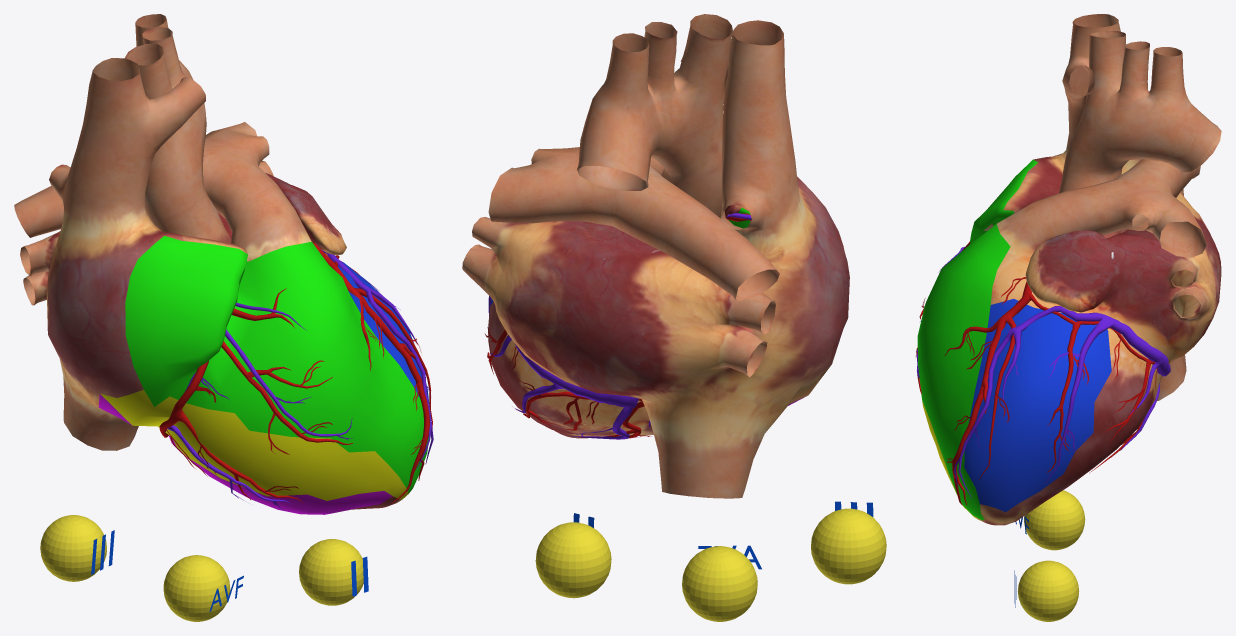
Rendered from new-human-heart-with-camera.glb.
3 renders of one model, left to right at view 1: azimuth 30°, elevation 25°; view 2: azimuth 150°, elevation 25°; view 3: azimuth 270°, elevation 25°, orthographic. The views are drawn at different scales.
Parts seen in each view (by area): view 1: Object_2, Object_4, Sphere.001, Object_6, Sphere.002, Sphere, Object_3; view 2: Object_2, Sphere, Sphere.002, Sphere.001, Object_6, Object_4, Object_3; view 3: Object_2, Object_4, Object_6, Sphere.002, Sphere.001, Object_3, Object_5.
Part boxes in pixels (left/top/right/bottom): Object_2: left=14, top=14, right=429, bottom=514; Object_4: left=159, top=243, right=432, bottom=503; Sphere.001: left=163, top=555, right=230, bottom=621; Object_6: left=167, top=249, right=433, bottom=510; Sphere.002: left=299, top=539, right=363, bottom=605; Sphere: left=40, top=515, right=106, bottom=581; Object_3: left=166, top=259, right=425, bottom=491; Object_2: left=462, top=14, right=849, bottom=498; Sphere: left=811, top=508, right=886, bottom=584; Sphere.002: left=535, top=522, right=611, bottom=598; Sphere.001: left=682, top=546, right=757, bottom=621; Object_6: left=488, top=213, right=751, bottom=439; Object_4: left=487, top=213, right=751, bottom=438; Object_3: left=485, top=327, right=651, bottom=436; Object_2: left=917, top=14, right=1221, bottom=525; Object_4: left=917, top=241, right=1155, bottom=505; Object_6: left=916, top=246, right=1170, bottom=498; Sphere.002: left=1017, top=560, right=1079, bottom=621; Sphere.001: left=1024, top=490, right=1085, bottom=550; Object_3: left=916, top=277, right=1157, bottom=462; Object_5: left=1120, top=362, right=1160, bottom=450.
Bounding box in the file's own units: 249 × 386 × 206.
14 materials, 3 textured.
